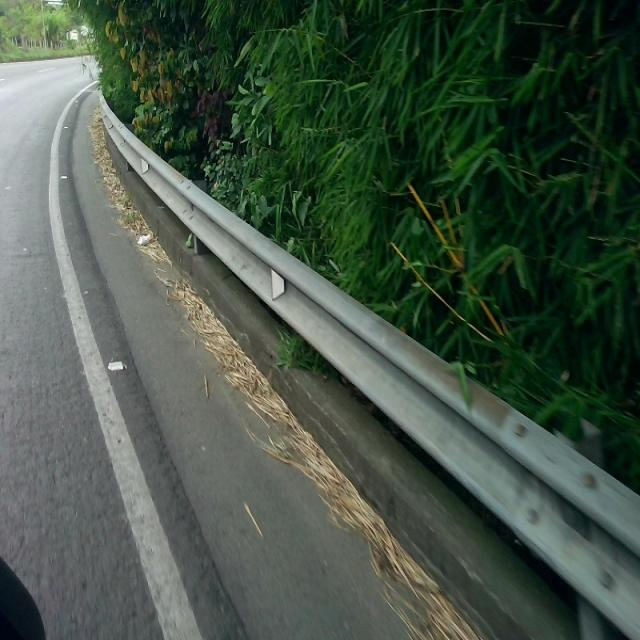DITCH: (86, 90, 486, 639)
